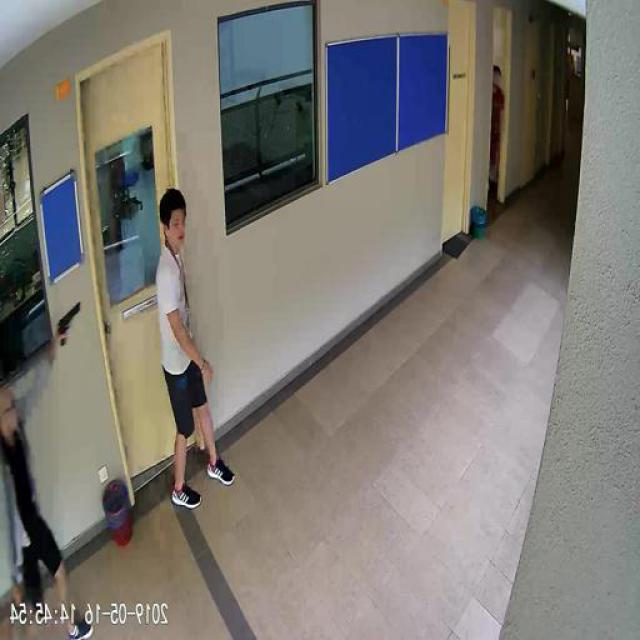Gun: (58, 297, 82, 345)
